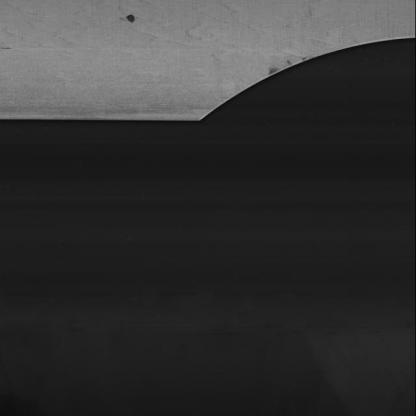crescent_gap: (182, 23, 416, 139)
